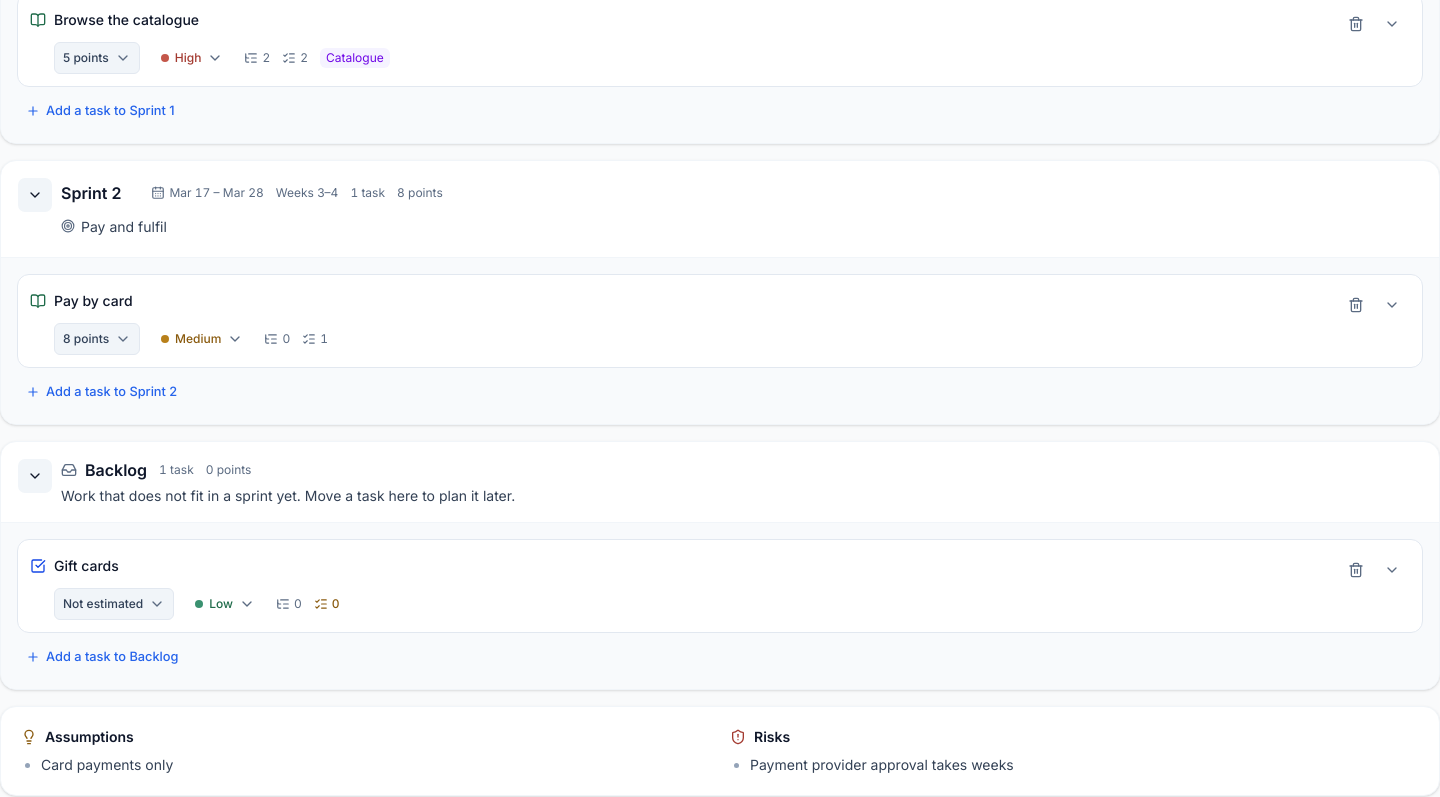
ReviewStep › AC-005: adds a task to a sprint
(page scrolled)
Click the button "Add a task to Sprint 2" at (102, 392), box [17,376,186,408]
(page scrolled)
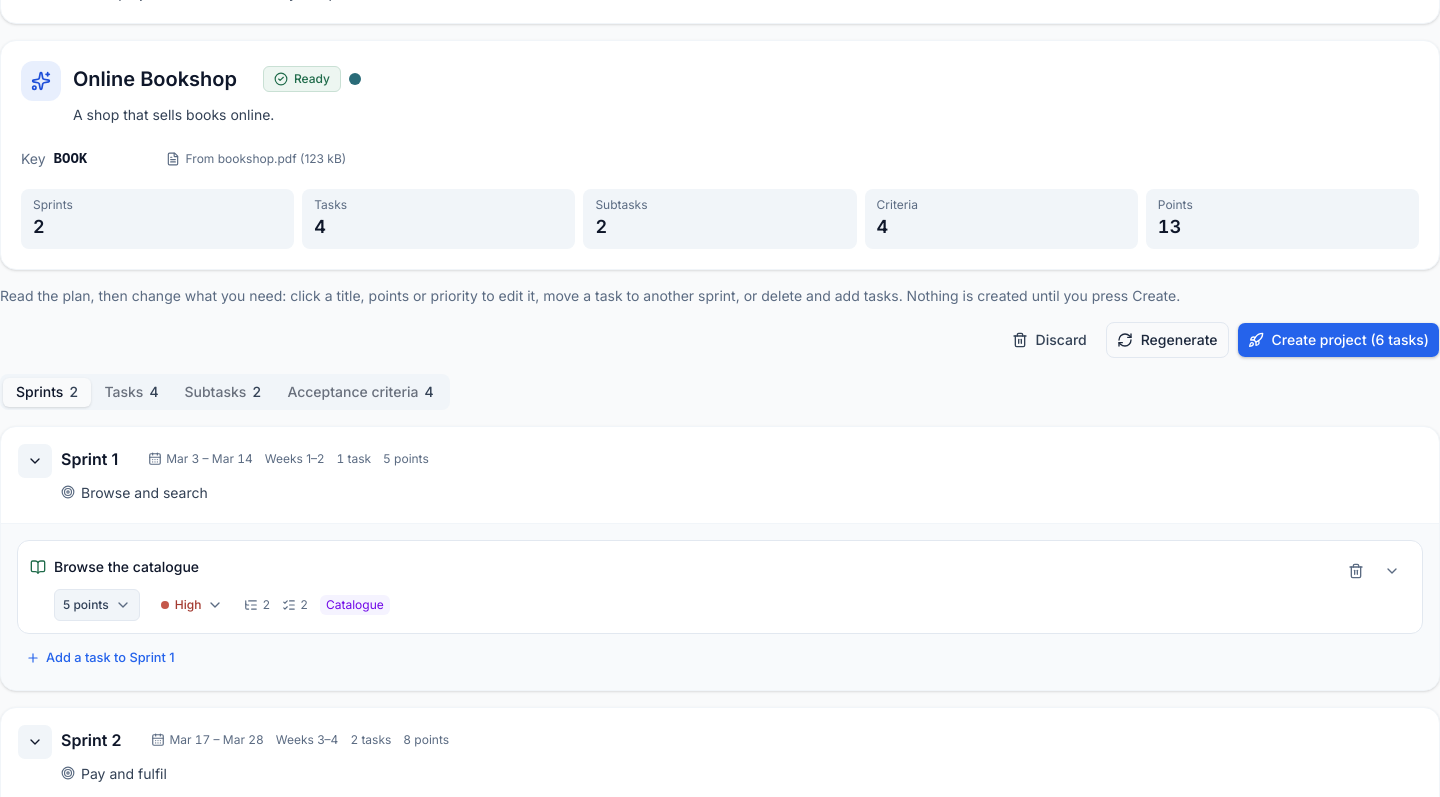
Expected: the tab "Tasks 4" is shown, [91,378,172,406]
